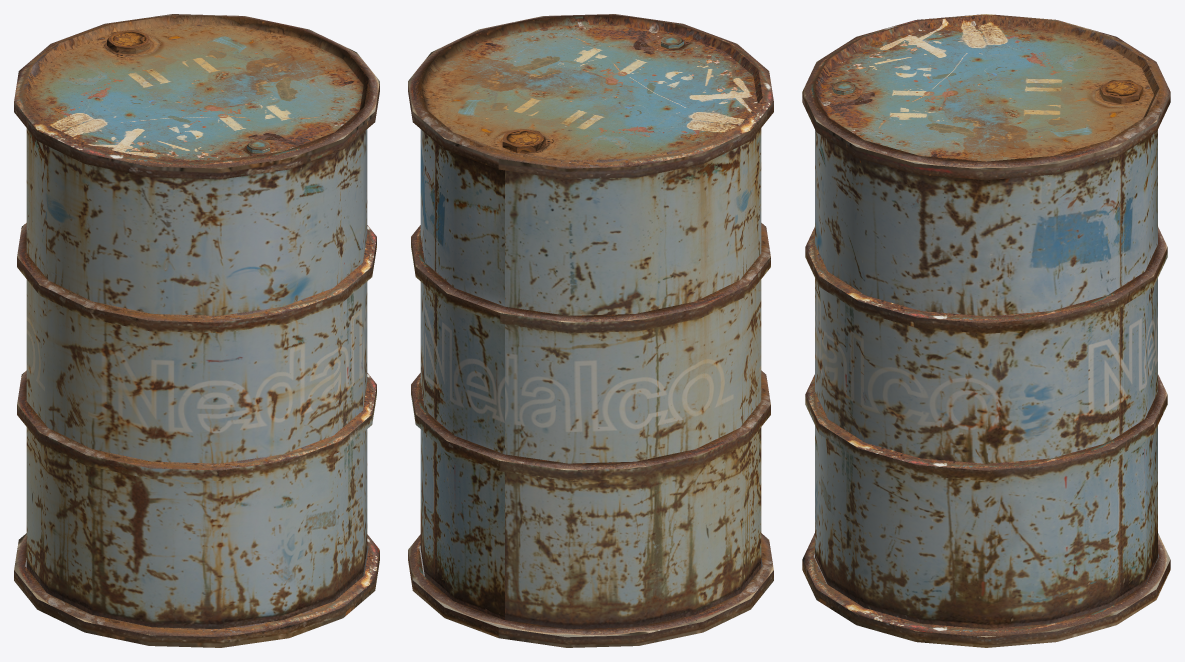
Rendered from Barrel.fbx.
3 renders of one model, left to right at view 1: azimuth 30°, elevation 25°; view 2: azimuth 150°, elevation 25°; view 3: azimuth 270°, elevation 25°, orthographic.
Parts seen in each view (by area): view 1: polySurface2; view 2: polySurface2; view 3: polySurface2.
Boxes of the visible parts, x1=… form: polySurface2: x1=14, y1=14, x2=379, y2=647; polySurface2: x1=408, y1=14, x2=773, y2=647; polySurface2: x1=802, y1=14, x2=1170, y2=647.
Size of the model in its own units: 2.93 by 4.26 by 2.93.
Materials: 3 (2 with a texture image).
